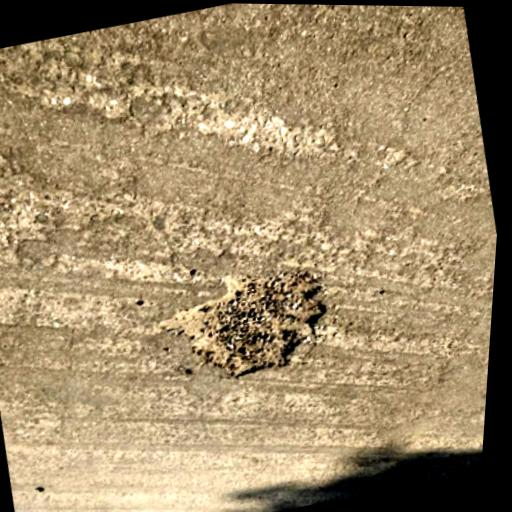pothole: (145, 252, 346, 397)
